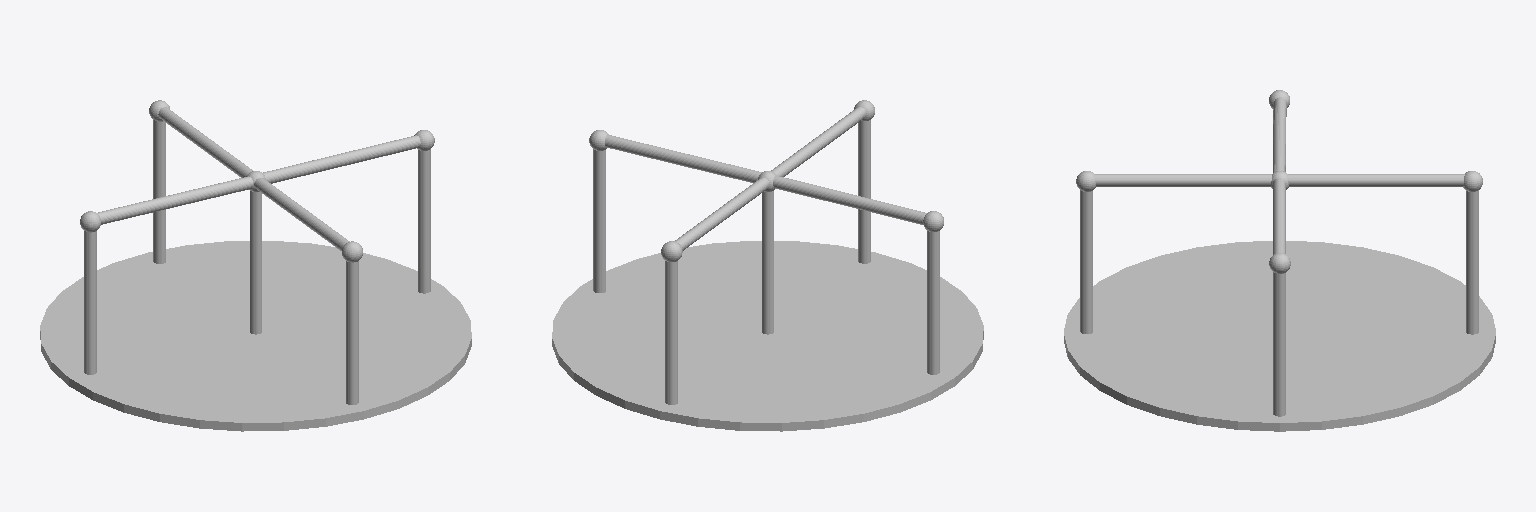
The model's file is mgr.obj.
3 views of the same model, side by side, from view 1: azimuth 30°, elevation 25°; view 2: azimuth 150°, elevation 25°; view 3: azimuth 270°, elevation 25° (orthographic).
Parts seen in each view (by area): view 1: Cylinder, Cylinder.004, Cylinder.009, Cylinder.007, Cylinder.005, Cylinder.008, Cylinder.001, Cylinder.002, Cylinder.006, Cylinder.003; view 2: Cylinder, Cylinder.004, Cylinder.009, Cylinder.002, Cylinder.008, Cylinder.005, Cylinder.001, Cylinder.007, Cylinder.003, Cylinder.006; view 3: Cylinder, Cylinder.006, Cylinder.003, Cylinder.005, Cylinder.002, Cylinder.007, Cylinder.004, Cylinder.009.
Boxes of the visible parts, box(x1,y1,x2,y2) form: Cylinder: box(40, 241, 471, 431); Cylinder.004: box(263, 135, 420, 183); Cylinder.009: box(97, 176, 252, 224); Cylinder.007: box(346, 261, 358, 404); Cylinder.005: box(418, 149, 430, 293); Cylinder.008: box(84, 231, 96, 374); Cylinder.001: box(250, 191, 261, 334); Cylinder.002: box(153, 120, 165, 263); Cylinder.006: box(254, 178, 349, 250); Cylinder.003: box(158, 107, 252, 177); Cylinder: box(552, 241, 983, 431); Cylinder.004: box(605, 135, 761, 182); Cylinder.009: box(773, 176, 926, 224); Cylinder.002: box(665, 261, 677, 404); Cylinder.008: box(927, 231, 939, 374); Cylinder.005: box(593, 149, 605, 292); Cylinder.001: box(762, 191, 773, 334); Cylinder.007: box(858, 120, 870, 263); Cylinder.003: box(675, 177, 768, 250); Cylinder.006: box(771, 107, 865, 176); Cylinder: box(1064, 241, 1495, 431); Cylinder.006: box(1095, 174, 1271, 186); Cylinder.003: box(1288, 174, 1464, 186); Cylinder.005: box(1273, 272, 1285, 416); Cylinder.002: box(1466, 190, 1478, 334); Cylinder.007: box(1080, 190, 1092, 333); Cylinder.004: box(1273, 178, 1285, 254); Cylinder.009: box(1273, 97, 1286, 172).
Bounding box in the file's own units: 2 × 0.8596 × 2.